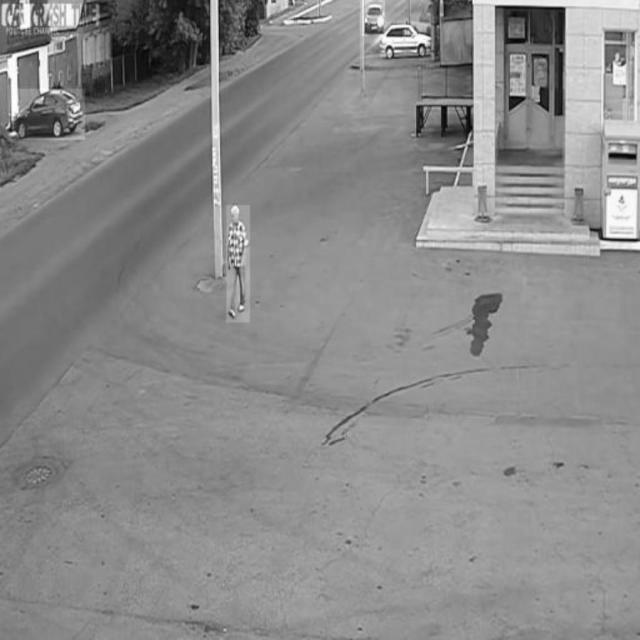person: (226, 205, 250, 323)
vehicle: (13, 89, 85, 140), (380, 21, 435, 59), (363, 0, 385, 36)
